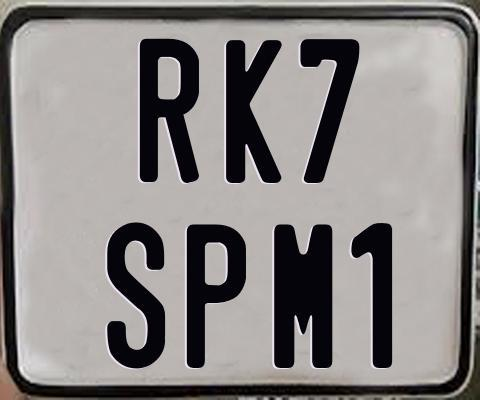1: (350, 220, 393, 369)
7: (297, 37, 360, 181)
K: (226, 39, 287, 187)
M: (272, 221, 335, 370)
P: (184, 221, 246, 366)
R: (137, 36, 198, 180)
S: (106, 220, 167, 369)
